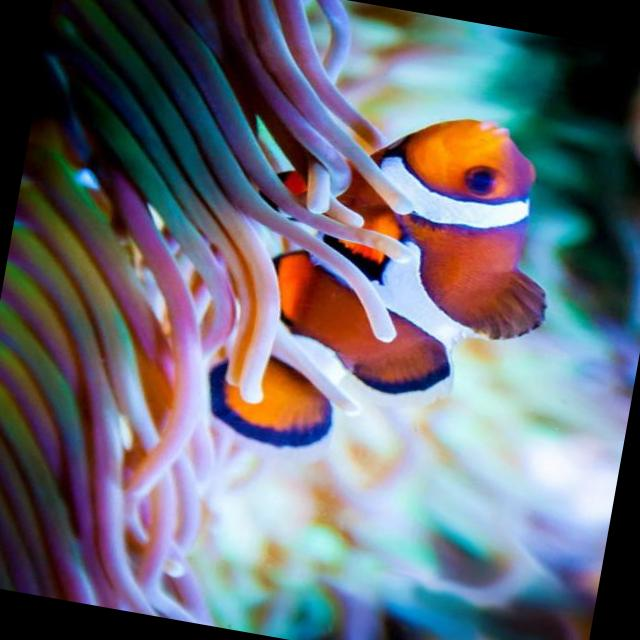ClownFish: (194, 78, 576, 494)
